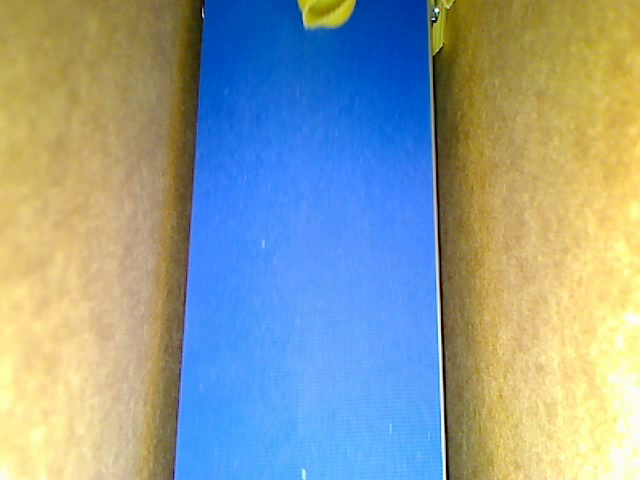penne: (425, 1, 446, 58)
shell: (297, 1, 359, 31)
